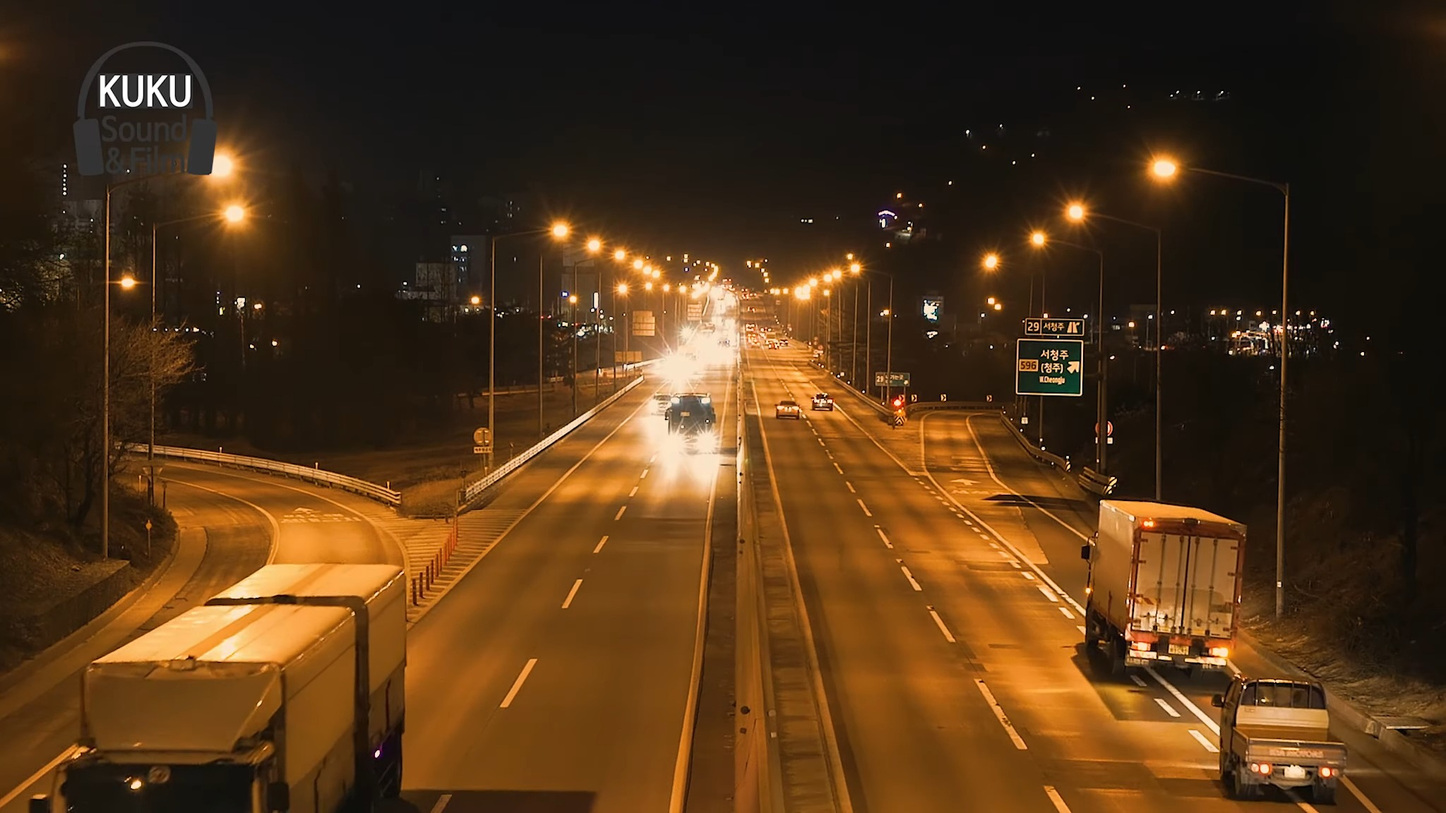car: (653, 392, 716, 468)
truck: (1089, 489, 1247, 689), (1219, 666, 1340, 802)
